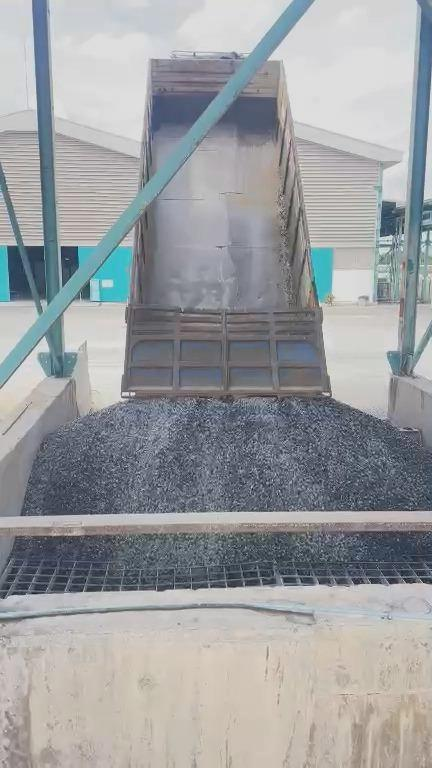gravel: (24, 398, 432, 514), (22, 536, 432, 564)
